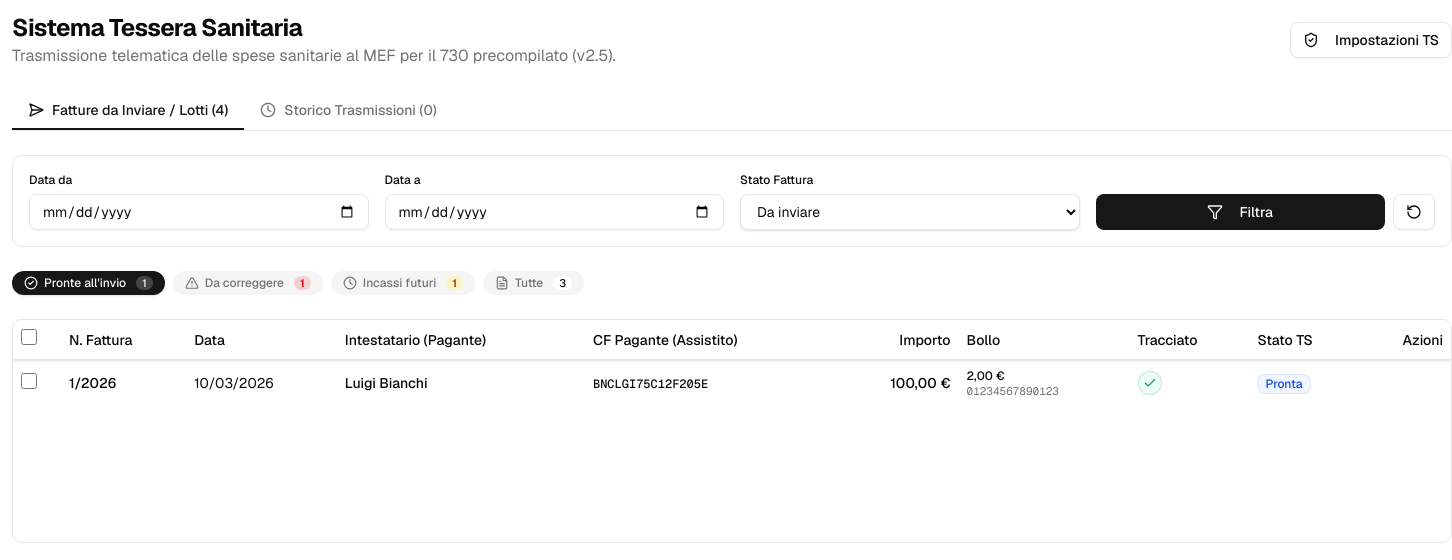
Test: SistemaTsManager › disabilita la checkbox per fatture con incasso futuro e mostra tooltip esplicativo
Passa alla pillola "Incassi futuri"
Click the button "Incassi futuri 1" at (403, 283), box x1=331 y1=271 x2=475 y2=295
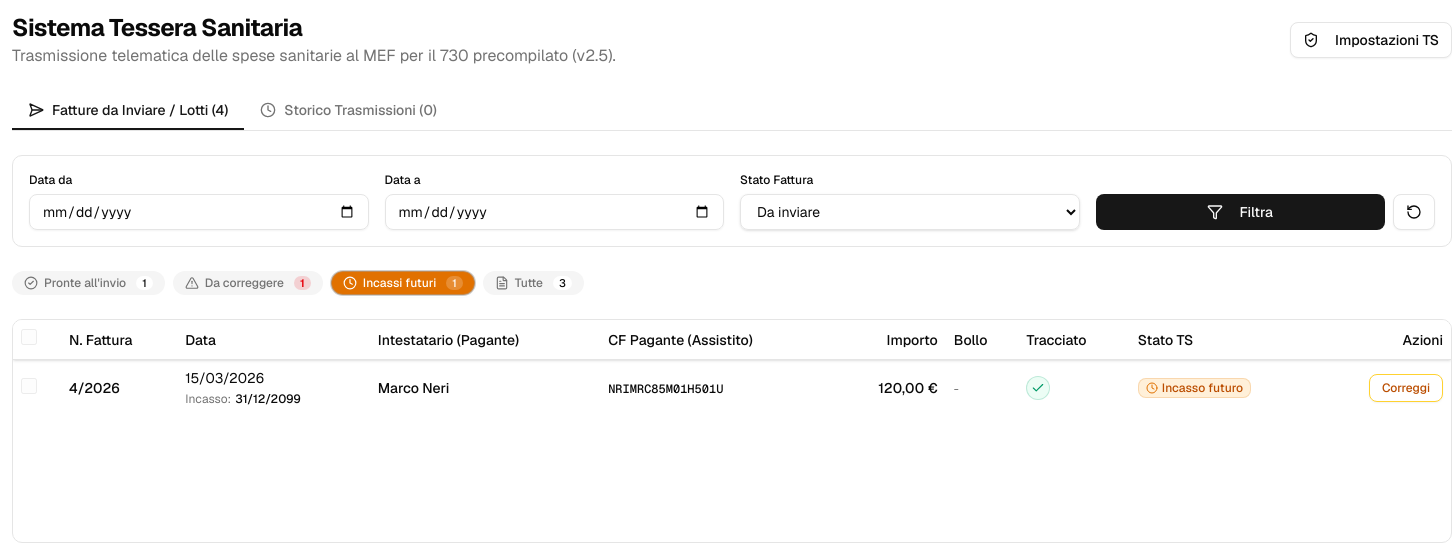
Result: the text "Marco Neri" is shown at x1=378 y1=379 x2=449 y2=397
Result: the text "Incasso futuro" is shown at x1=1138 y1=378 x2=1251 y2=398
